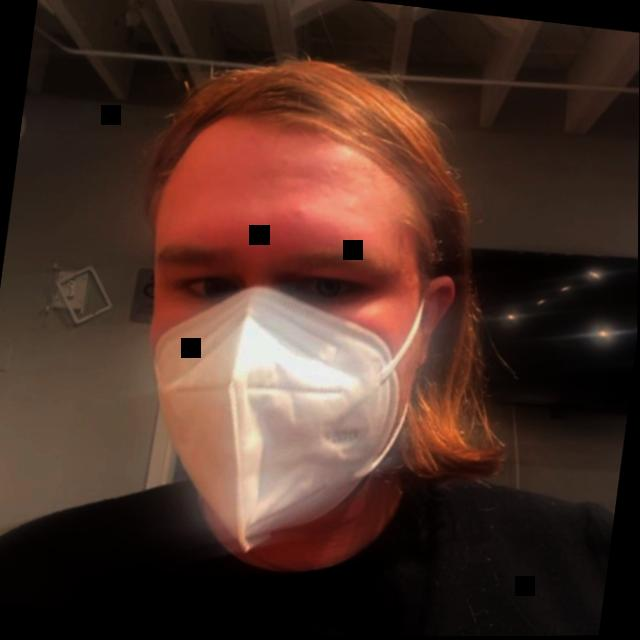Mask: (121, 35, 572, 600)
